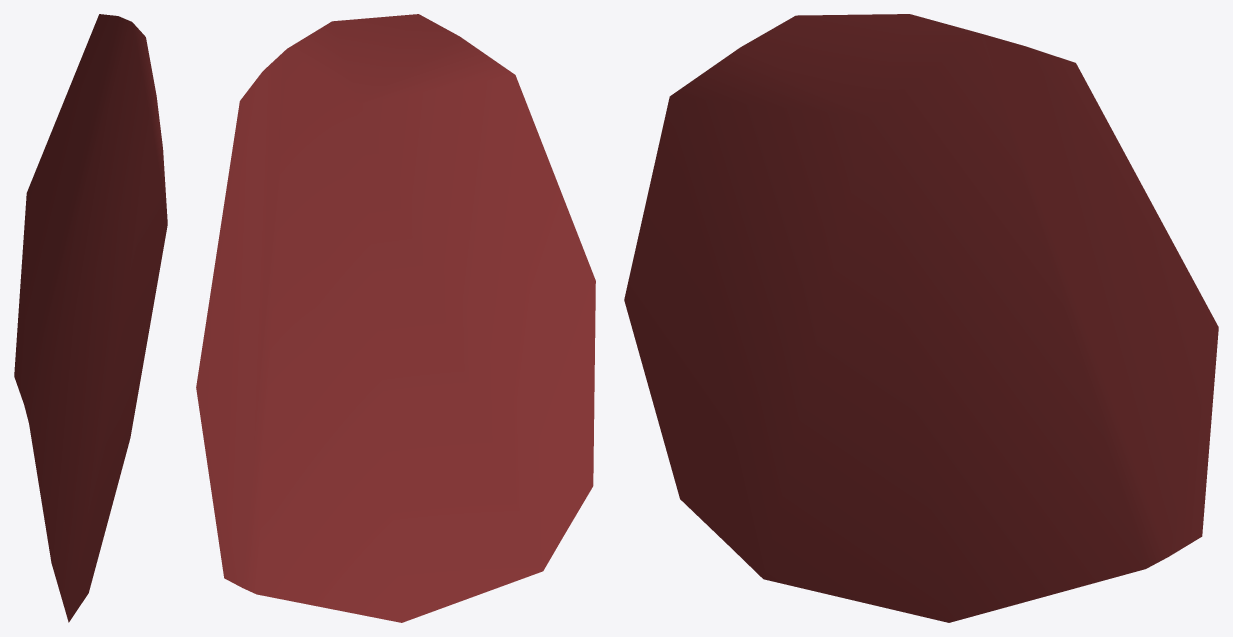
The model's file is longissimus-thoracis-muscle-e23l.glb.
3 views of the same model, side by side, from view 1: azimuth 30°, elevation 25°; view 2: azimuth 150°, elevation 25°; view 3: azimuth 270°, elevation 25° (orthographic). The views are drawn at different scales.
Visible parts, largest first — view 1: Longissimus thoracis muscle.e23l; view 2: Longissimus thoracis muscle.e23l; view 3: Longissimus thoracis muscle.e23l.
Boxes of the visible parts, x1,y1,x2,y2 form: Longissimus thoracis muscle.e23l: (14, 14, 167, 622); Longissimus thoracis muscle.e23l: (196, 14, 595, 622); Longissimus thoracis muscle.e23l: (624, 14, 1218, 622).
Size of the model in its own units: 0.00193 by 0.00573 by 0.00469.
